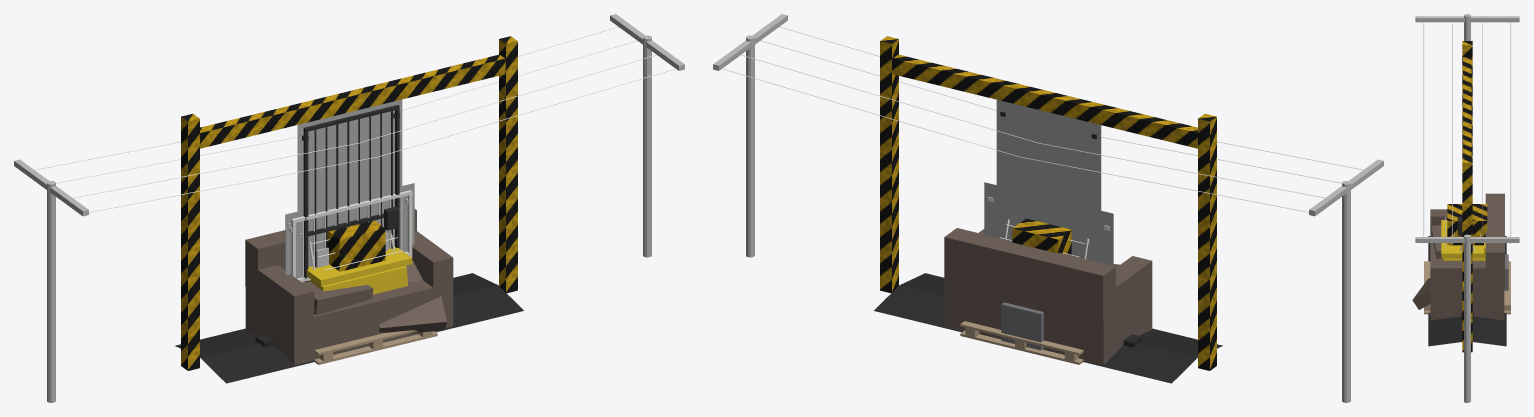
Rendered from heron-reach-sl-extras.glb.
3 renders of one model, left to right at view 1: azimuth 30°, elevation 25°; view 2: azimuth 150°, elevation 25°; view 3: azimuth 270°, elevation 25°, orthographic. The views are drawn at different scales.
Parts seen in each view (by area): view 1: hr_prop_height_barrier_3m2, hr_prop_dumped_sofa, hr_prop_void_sheet_door, hr_prop_drying_posts_6m, hr_prop_speed_hump_rubber_3m, hr_prop_door_security_gate, hr_prop_grit_bin, hr_prop_column_hazard_wrap_450, hr_prop_void_sheet_window_1200, hr_prop_window_grille_1200, hr_prop_pallet, hr_prop_clothes_airer; view 2: hr_prop_dumped_sofa, hr_prop_height_barrier_3m2, hr_prop_void_sheet_door, hr_prop_drying_posts_6m, hr_prop_speed_hump_rubber_3m, hr_prop_void_sheet_window_1200, hr_prop_pallet, hr_prop_column_hazard_wrap_450, hr_prop_crt_tv_dumped; view 3: hr_prop_dumped_sofa, hr_prop_drying_posts_6m, hr_prop_height_barrier_3m2, hr_prop_speed_hump_rubber_3m, hr_prop_column_hazard_wrap_450, hr_prop_grit_bin, hr_prop_pallet, hr_prop_crt_tv_dumped, hr_prop_door_security_gate.
Boxes of the visible parts, x1,y1,x2,y2 form: hr_prop_height_barrier_3m2: [181, 36, 517, 370]; hr_prop_dumped_sofa: [245, 209, 453, 364]; hr_prop_void_sheet_door: [297, 99, 402, 278]; hr_prop_drying_posts_6m: [14, 14, 684, 402]; hr_prop_speed_hump_rubber_3m: [175, 273, 523, 383]; hr_prop_door_security_gate: [302, 105, 399, 282]; hr_prop_grit_bin: [307, 246, 412, 294]; hr_prop_column_hazard_wrap_450: [327, 220, 385, 271]; hr_prop_void_sheet_window_1200: [285, 183, 414, 278]; hr_prop_window_grille_1200: [289, 190, 412, 282]; hr_prop_pallet: [314, 330, 437, 364]; hr_prop_clothes_airer: [309, 226, 403, 270]; hr_prop_dumped_sofa: [944, 228, 1152, 364]; hr_prop_height_barrier_3m2: [880, 36, 1216, 370]; hr_prop_void_sheet_door: [996, 100, 1101, 262]; hr_prop_drying_posts_6m: [713, 14, 1383, 402]; hr_prop_speed_hump_rubber_3m: [874, 273, 1222, 383]; hr_prop_void_sheet_window_1200: [984, 182, 1113, 265]; hr_prop_pallet: [960, 321, 1083, 364]; hr_prop_column_hazard_wrap_450: [1012, 218, 1071, 255]; hr_prop_crt_tv_dumped: [1001, 302, 1043, 350]; hr_prop_dumped_sofa: [1412, 193, 1504, 320]; hr_prop_drying_posts_6m: [1415, 14, 1519, 402]; hr_prop_height_barrier_3m2: [1462, 41, 1472, 352]; hr_prop_speed_hump_rubber_3m: [1428, 236, 1506, 346]; hr_prop_column_hazard_wrap_450: [1447, 204, 1487, 245]; hr_prop_grit_bin: [1441, 220, 1485, 260]; hr_prop_pallet: [1424, 261, 1510, 314]; hr_prop_crt_tv_dumped: [1504, 254, 1508, 290]; hr_prop_door_security_gate: [1458, 112, 1462, 235].
Size of the model in its own units: 6.08 by 2.45 by 1.23.
16 materials, 1 textured.
